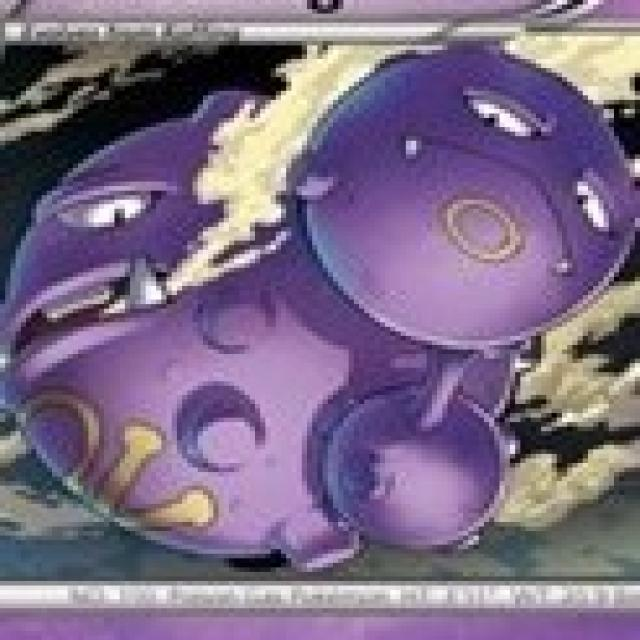Weezing: (0, 34, 640, 564)
